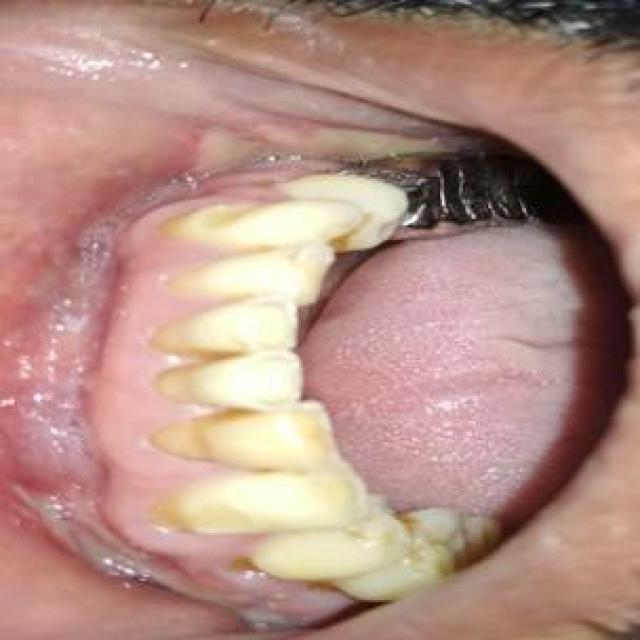leukoplakia-detection: (1, 13, 464, 631)
processing_area: (1, 9, 631, 638)
